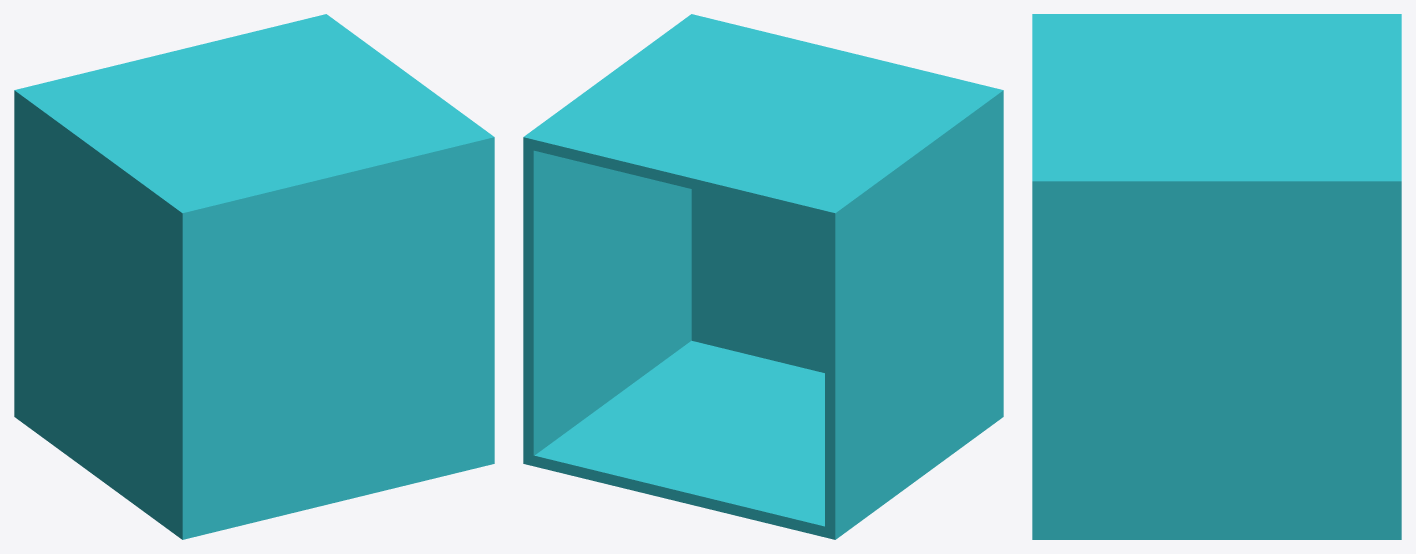
Rendered from Porthole_Inside.glb.
3 views of the same model, side by side, from view 1: azimuth 30°, elevation 25°; view 2: azimuth 150°, elevation 25°; view 3: azimuth 270°, elevation 25° (orthographic). The views are drawn at different scales.
Visible parts, largest first — view 1: Hull.001; view 2: Hull.001; view 3: Hull.001.
Boxes of the visible parts, left/top/right/bottom form: Hull.001: left=14, top=14, right=494, bottom=539; Hull.001: left=523, top=14, right=1003, bottom=539; Hull.001: left=1032, top=14, right=1401, bottom=539.
Bounding box in the file's own units: 3.75 × 3.75 × 3.5.
